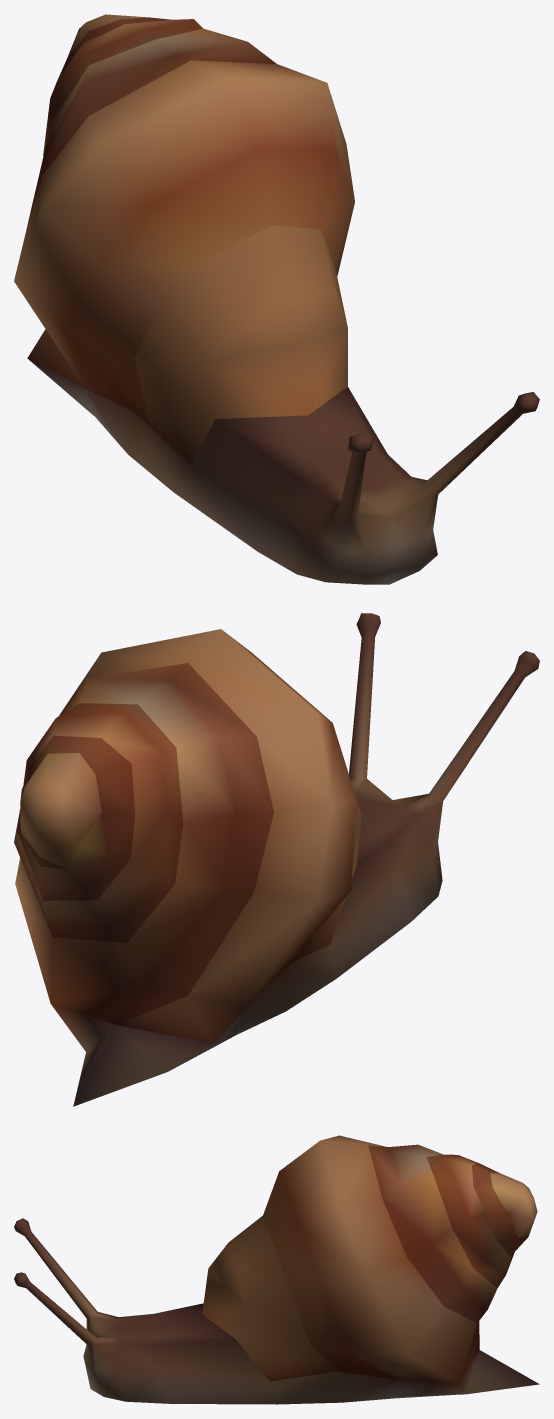
File: kit-snail.glb
3 renders of one model, top to bottom at view 1: azimuth 30°, elevation 25°; view 2: azimuth 150°, elevation 25°; view 3: azimuth 270°, elevation 25°, orthographic. The views are drawn at different scales.
Parts seen in each view (by area): view 1: base; view 2: base; view 3: base.
Boxes of the visible parts, box(x1,y1,x2,y2) form: base: box(14, 14, 539, 584); base: box(14, 613, 539, 1106); base: box(14, 1135, 539, 1404).
Bounding box in the file's own units: 0.3357 × 0.393 × 0.7472.
